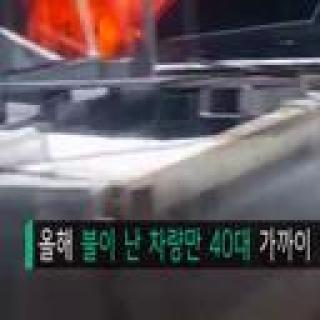fire: (30, 0, 190, 72)
